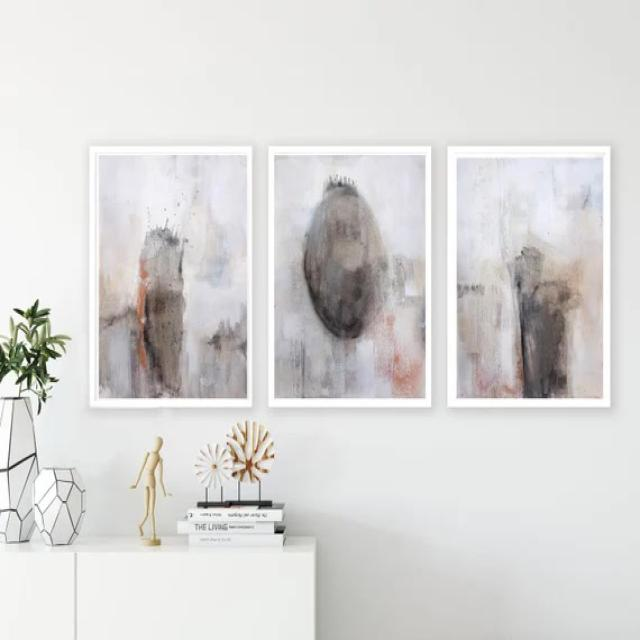painting: (89, 144, 251, 407), (268, 146, 430, 409), (447, 145, 609, 408)
